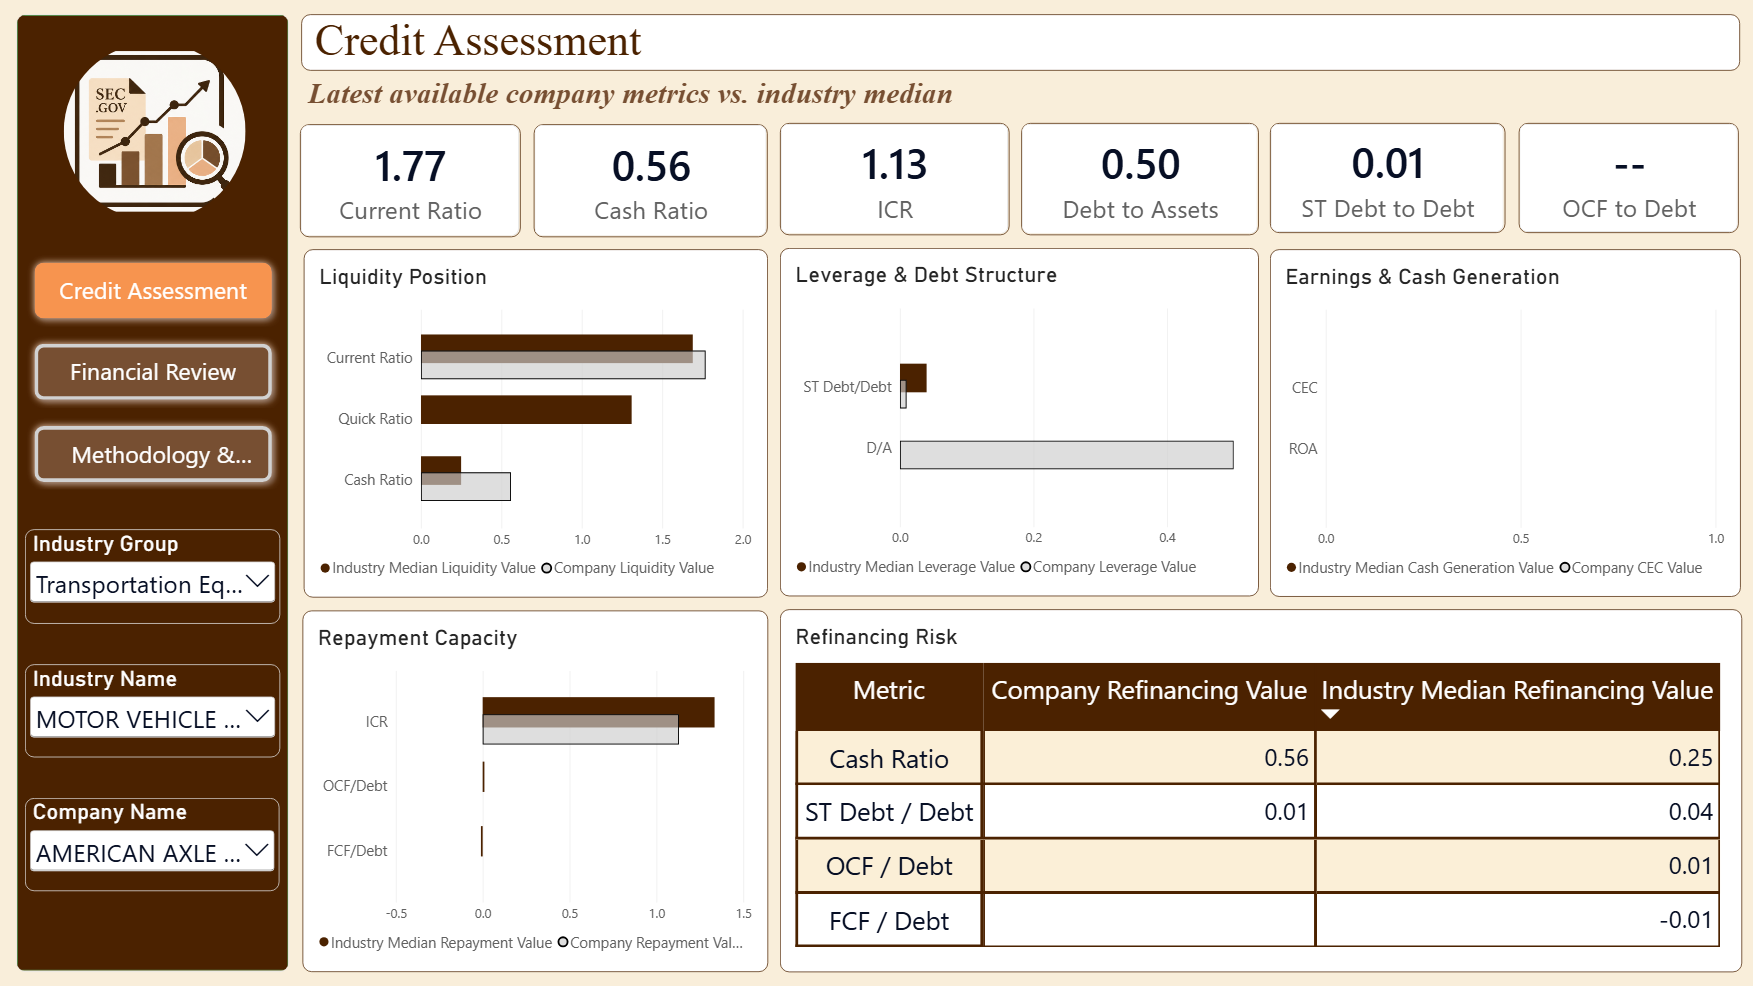

This screenshot's page, from the dashboard's own definition file:
{"tool":"powerbi","page":{"name":"Credit Assessment","canvas":[1920,1080],"ordinal":0},"visuals":[{"type":"shape","box":[18.2,18.2,298,1044.7],"z":0},{"type":"pageNavigator","box":[29.1,279.8,278,259.8],"z":1000},{"type":"slicer","fields":{"Values":["gold_dim_filing.industry_group"]},"box":[27.3,579.6,278.7,103.2],"z":2000},{"type":"slicer","fields":{"Values":["gold_dim_filing.industry_name"]},"box":[27.3,726.7,278.7,101.3],"z":3000},{"type":"textbox","box":[328.8,18.2,1569.7,61.8],"z":4000},{"type":"slicer","fields":{"Values":["gold_dim_filing.company_name"]},"box":[27.3,872.1,278,101.7],"z":5000},{"type":"clusteredBarChart","title":"Repayment Capacity","fields":{"Category":["Repayment Metrics.Metric"],"Y":["table_measures.Industry Median Repayment Value","table_measures.Company Repayment Value"]},"box":[330,668,508,394],"z":6000},{"type":"cardVisual","fields":{"Data":["table_measures.Most Recent ICR"]},"box":[850.7,136.9,250.6,122.1],"z":7000},{"type":"cardVisual","fields":{"Data":["table_measures.Most Recent D/A Ratio"]},"box":[1113.9,136.9,259,122.1],"z":8000},{"type":"cardVisual","fields":{"Data":["table_measures.Most Recent STD/Total Debt"]},"box":[1385.6,136.9,256.9,120],"z":9000},{"type":"cardVisual","fields":{"Data":["table_measures.Most Recent OCF/NI"]},"box":[1657.2,136.9,240.1,120],"z":10000},{"type":"clusteredBarChart","title":"Liquidity Position","fields":{"Category":["Liquidity Metrics.Metric"],"Y":["table_measures.Industry Median Liquidity Value","table_measures.Company Liquidity Value"]},"box":[332,274,506,380],"z":11000},{"type":"clusteredBarChart","title":"Leverage & Debt Structure ","fields":{"Category":["Leverage Metrics.Metric"],"Y":["table_measures.Industry Median Leverage Value","table_measures.Company Leverage Value"]},"box":[851.1,273.3,522.2,380],"z":12000},{"type":"cardVisual","fields":{"Data":["table_measures.Most Recent Current Ratio"]},"box":[327.5,137.5,240.7,123.1],"z":13000},{"type":"cardVisual","fields":{"Data":["table_measures.Most Recent Cash Ratio"]},"box":[582.7,137.5,255.2,123.1],"z":14000},{"type":"clusteredBarChart","title":"Earnings & Cash Generation","fields":{"Category":["Cash Generation Metrics.Metric"],"Y":["table_measures.Industry Median Cash Generation Value","table_measures.Company CEC Value"]},"box":[1384.9,273.6,513.2,379.2],"z":15000},{"type":"pivotTable","title":"Refinancing Risk","fields":{"Rows":["Refinancing Metrics.Metric"],"Values":["table_measures.Company Refinancing Value","table_measures.Industry Median Refinancing Value"]},"box":[850.2,667,1050,395.8],"z":16000},{"type":"textbox","box":[328.8,67.2,1355.3,83.6],"z":17000},{"type":"image","box":[69,49.1,198,192.6],"z":18000}]}

Visuals, with their boxes in screenshot pixels (x1, y1, x2, y2), scaled from the page's 1920x1080 canvas onto the 1753x986 screenshot:
shape: {"x1": 17, "y1": 17, "x2": 289, "y2": 970}
pageNavigator: {"x1": 27, "y1": 255, "x2": 280, "y2": 493}
slicer - gold_dim_filing.industry_group: {"x1": 25, "y1": 529, "x2": 279, "y2": 623}
slicer - gold_dim_filing.industry_name: {"x1": 25, "y1": 663, "x2": 279, "y2": 756}
textbox: {"x1": 300, "y1": 17, "x2": 1733, "y2": 73}
slicer - gold_dim_filing.company_name: {"x1": 25, "y1": 796, "x2": 279, "y2": 889}
"Repayment Capacity" clusteredBarChart: {"x1": 301, "y1": 610, "x2": 765, "y2": 970}
cardVisual - table_measures.Most Recent ICR: {"x1": 777, "y1": 125, "x2": 1006, "y2": 236}
cardVisual - table_measures.Most Recent D/A Ratio: {"x1": 1017, "y1": 125, "x2": 1253, "y2": 236}
cardVisual - table_measures.Most Recent STD/Total Debt: {"x1": 1265, "y1": 125, "x2": 1500, "y2": 235}
cardVisual - table_measures.Most Recent OCF/NI: {"x1": 1513, "y1": 125, "x2": 1732, "y2": 235}
"Liquidity Position" clusteredBarChart: {"x1": 303, "y1": 250, "x2": 765, "y2": 597}
"Leverage & Debt Structure " clusteredBarChart: {"x1": 777, "y1": 250, "x2": 1254, "y2": 596}
cardVisual - table_measures.Most Recent Current Ratio: {"x1": 299, "y1": 126, "x2": 519, "y2": 238}
cardVisual - table_measures.Most Recent Cash Ratio: {"x1": 532, "y1": 126, "x2": 765, "y2": 238}
"Earnings & Cash Generation" clusteredBarChart: {"x1": 1264, "y1": 250, "x2": 1733, "y2": 596}
"Refinancing Risk" pivotTable: {"x1": 776, "y1": 609, "x2": 1735, "y2": 970}
textbox: {"x1": 300, "y1": 61, "x2": 1538, "y2": 138}
image: {"x1": 63, "y1": 45, "x2": 244, "y2": 221}
